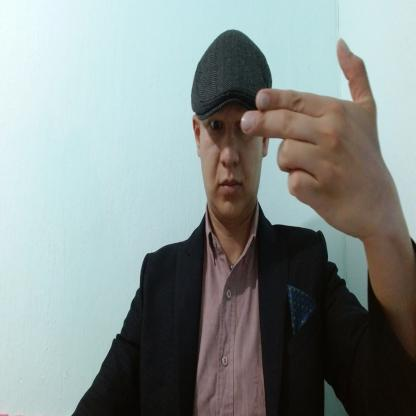H: (239, 38, 379, 240)
